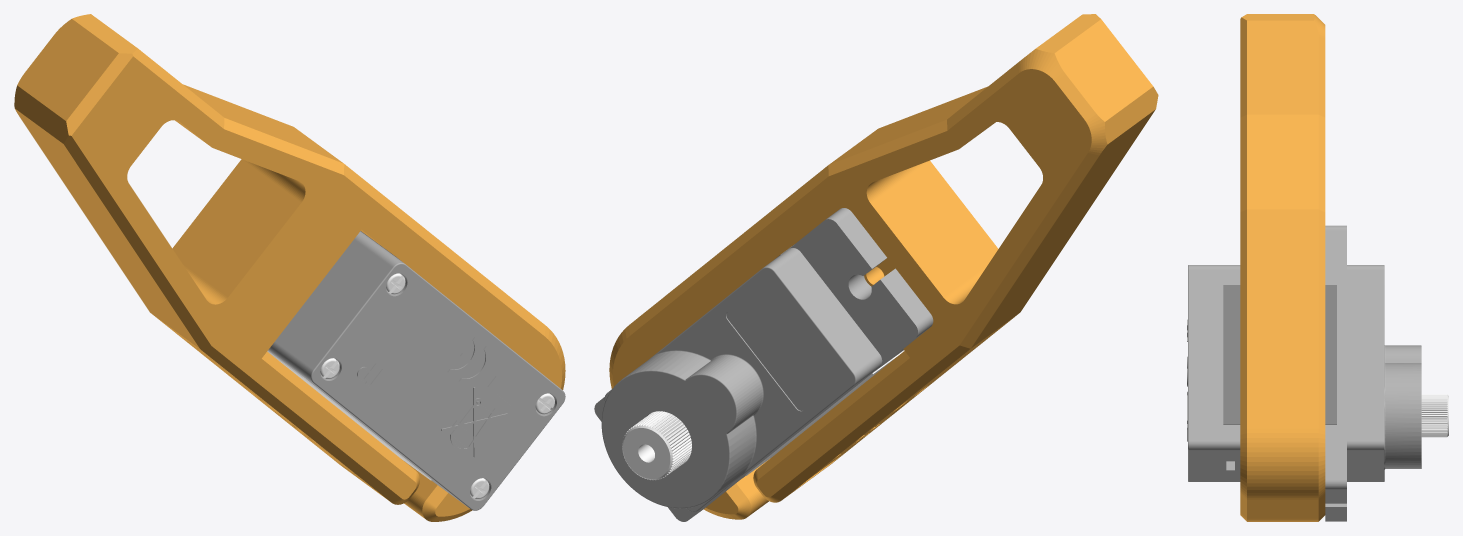
File: left_front_foot.glb
The picture shows the model from 3 angles, left to right: view 1: azimuth 30°, elevation 25°; view 2: azimuth 150°, elevation 25°; view 3: azimuth 270°, elevation 25°; orthographic projection. The views are drawn at different scales.
Visible parts, largest first — view 1: foot_joint_l3, sg90_bottom_7, sg90_body_7, sg90_side_right_7; view 2: foot_joint_l3, sg90_top_7, sg90_pin_7; view 3: foot_joint_l3, sg90_top_7, sg90_bottom_7, sg90_side_left_7, sg90_pin_7, sg90_body_7.
Part boxes in pixels (<box>): foot_joint_l3: <box>14,14,565,521</box>; sg90_bottom_7: <box>278,239,565,510</box>; sg90_body_7: <box>268,231,435,483</box>; sg90_side_right_7: <box>267,351,431,480</box>; foot_joint_l3: <box>609,14,1158,519</box>; sg90_top_7: <box>594,208,933,521</box>; sg90_pin_7: <box>622,411,691,480</box>; foot_joint_l3: <box>1240,14,1325,521</box>; sg90_top_7: <box>1325,225,1421,521</box>; sg90_bottom_7: <box>1187,265,1234,481</box>; sg90_side_left_7: <box>1223,285,1336,424</box>; sg90_pin_7: <box>1421,394,1448,437</box>; sg90_body_7: <box>1235,265,1240,481</box>.
Bounding box in the file's own units: 0.329 × 0.343 × 0.2097.
